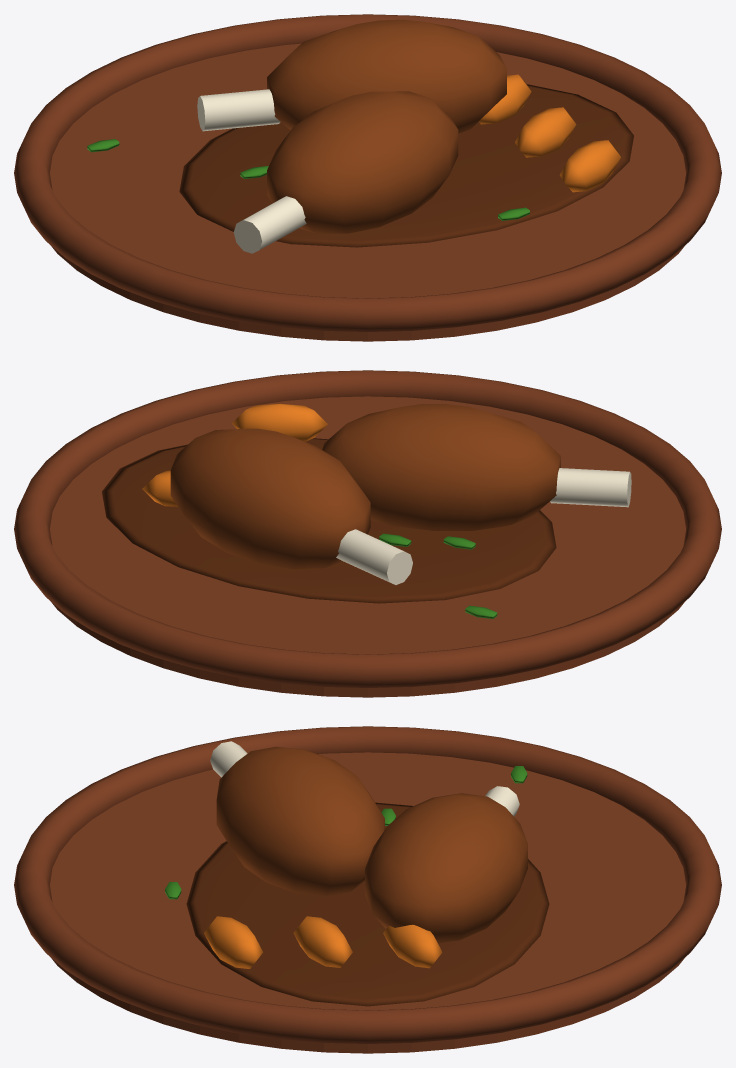
File: hasenbraten.glb
The picture shows the model from 3 angles, top to bottom: view 1: azimuth 30°, elevation 25°; view 2: azimuth 150°, elevation 25°; view 3: azimuth 270°, elevation 25°; orthographic projection.
Parts seen in each view (by area): view 1: Cylinder, Torus, Sphere, Sphere.001, Sphere.002, r.001, r, Sphere.003, Sphere.004, Sphere.005; view 2: Cylinder, Torus, Sphere.001, Sphere, Sphere.002, r, r.001, Sphere.003, Sphere.005; view 3: Cylinder, Torus, Sphere, Sphere.001, Sphere.002, Sphere.003, Sphere.004, Sphere.005, r, r.001.
Boxes of the visible parts, x1,y1,x2,y2 form: Cylinder: (50,43,685,341); Torus: (14,14,721,331); Sphere: (179,84,633,247); Sphere.001: (267,91,458,233); Sphere.002: (267,19,506,133); r.001: (197,89,280,131); r: (233,196,306,253); Sphere.003: (559,140,620,192); Sphere.004: (515,107,576,157); Sphere.005: (479,74,531,124); Cylinder: (50,396,685,697); Torus: (14,370,721,687); Sphere.001: (322,404,560,530); Sphere: (102,438,556,603); Sphere.002: (170,428,370,569); r: (550,468,631,507); r.001: (336,529,412,584); Sphere.003: (232,403,328,441); Sphere.005: (142,470,177,506); Cylinder: (50,752,685,1053); Torus: (14,726,721,1043); Sphere: (186,802,549,1006); Sphere.001: (216,746,384,896); Sphere.002: (365,793,527,943); Sphere.003: (204,916,263,968); Sphere.004: (293,916,352,967); Sphere.005: (383,924,442,968); r: (210,741,247,777); r.001: (485,786,519,816).
Size of the model in its own units: 0.316 by 0.063 by 0.316.
